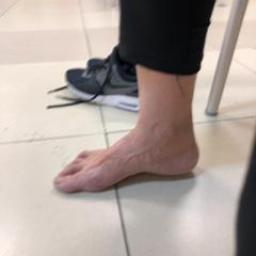Medial View -Right Foot-: (36, 96, 221, 210)
